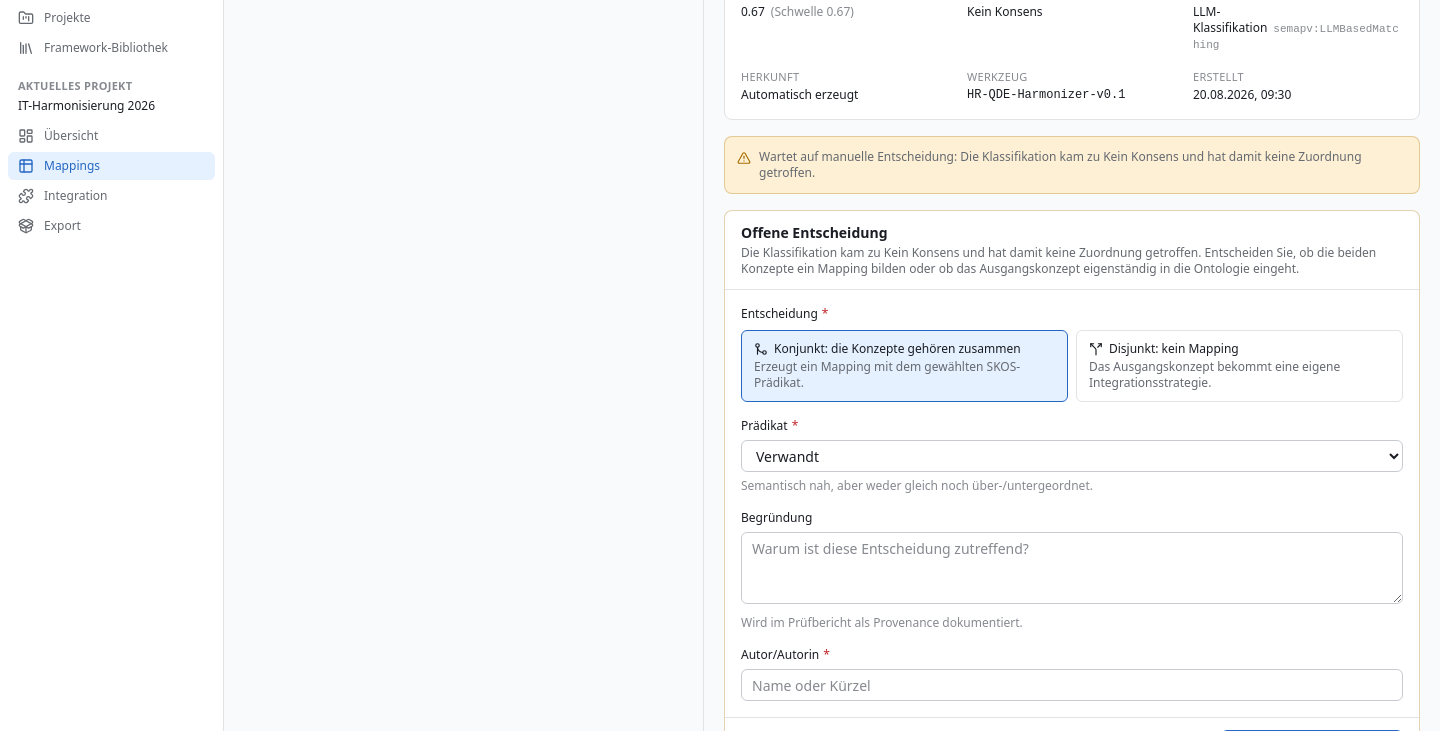
Test: Offene Paare in der Ergebnisliste › verlangt bei map_to_nearest einen Kontextverlust-Vermerk
The image size is (1440, 731).
(page scrolled)
expect the heading "Offene Entscheidung" is shown: met, box [741,223,888,242]
Step 1. Click the button "Disjunkt: kein Mapping" → (1240, 366), box [1076,330,1403,402]
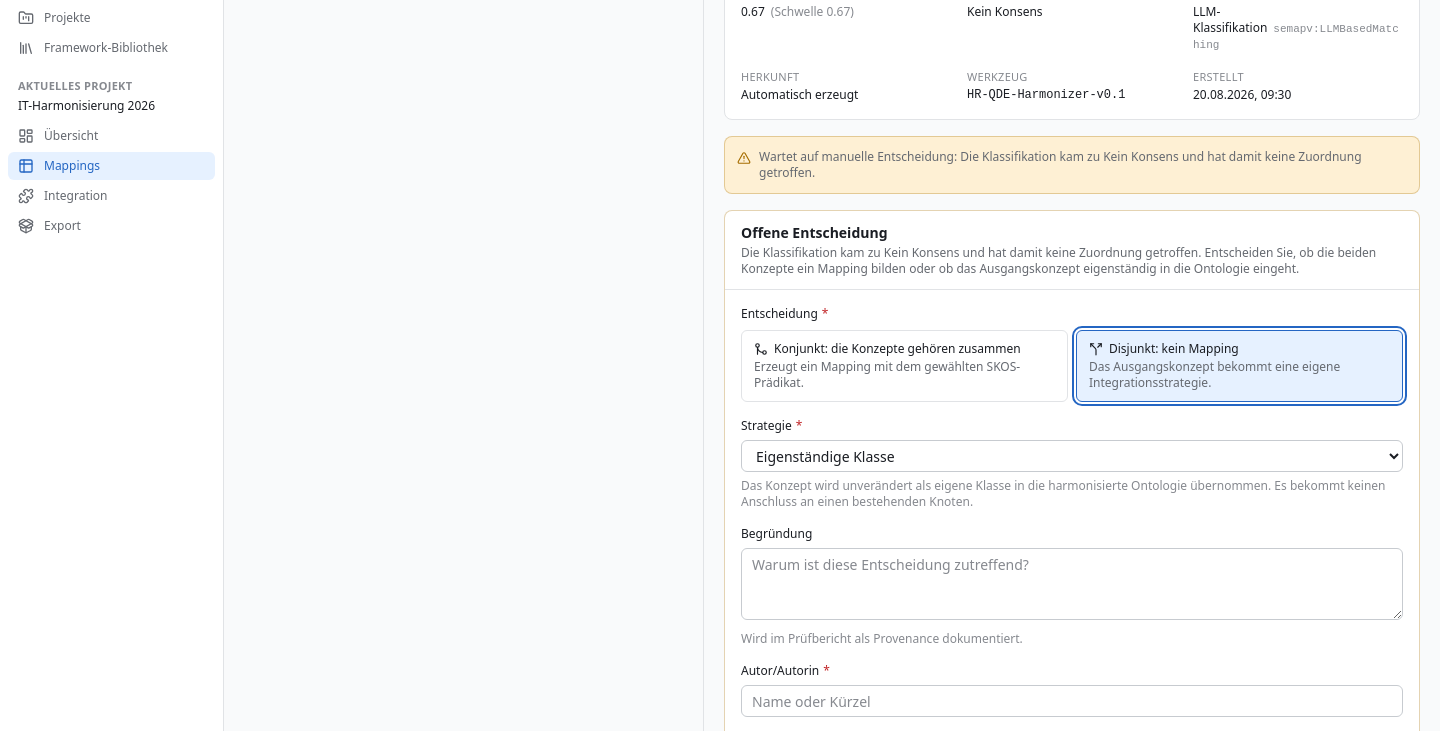
Step 2. Select "An nächstliegendes Konzept anhängen" in the dropdown labelled "Strategie*" → (1072, 456), box [741,440,1403,472]
(page scrolled)
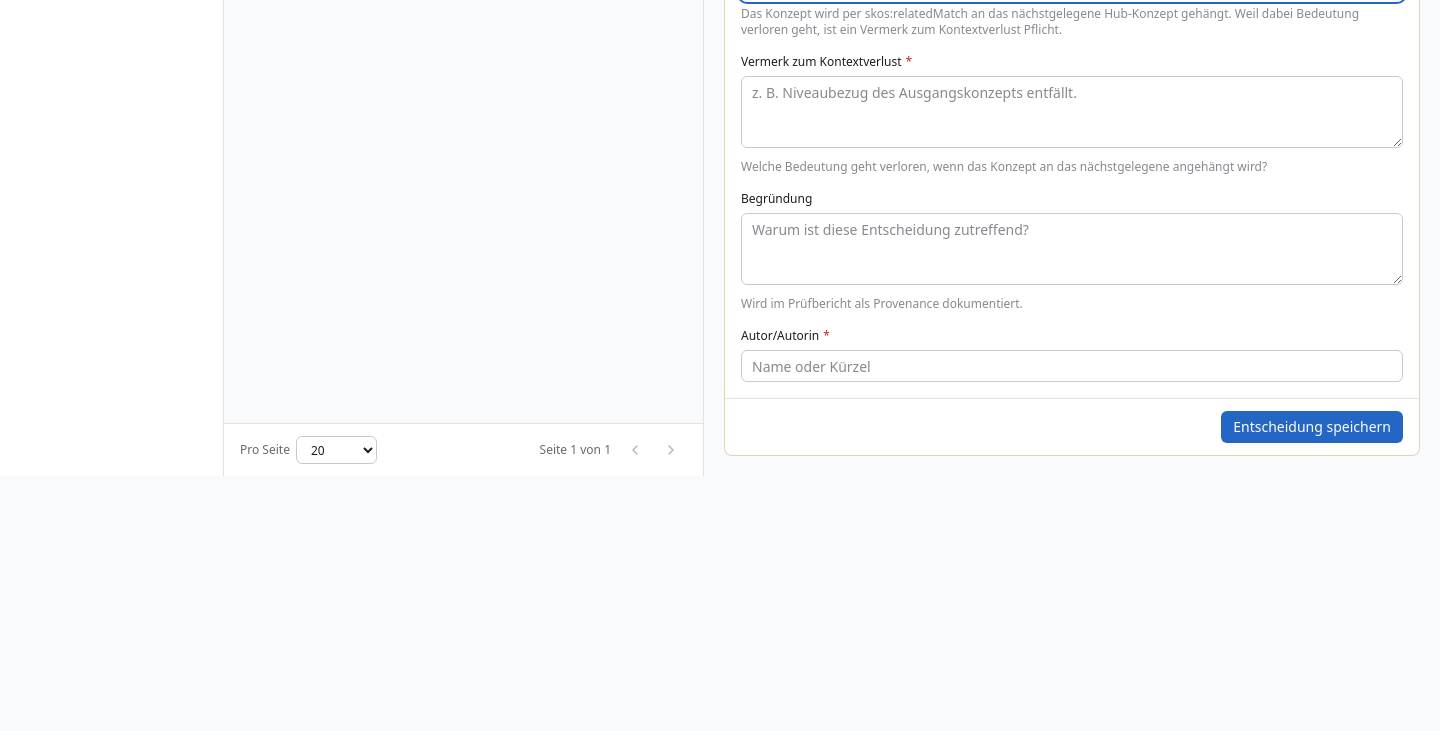
Step 3. Type "AO" into the field labelled "Autor/Autorin*" → (1072, 366), box [741,350,1403,382]
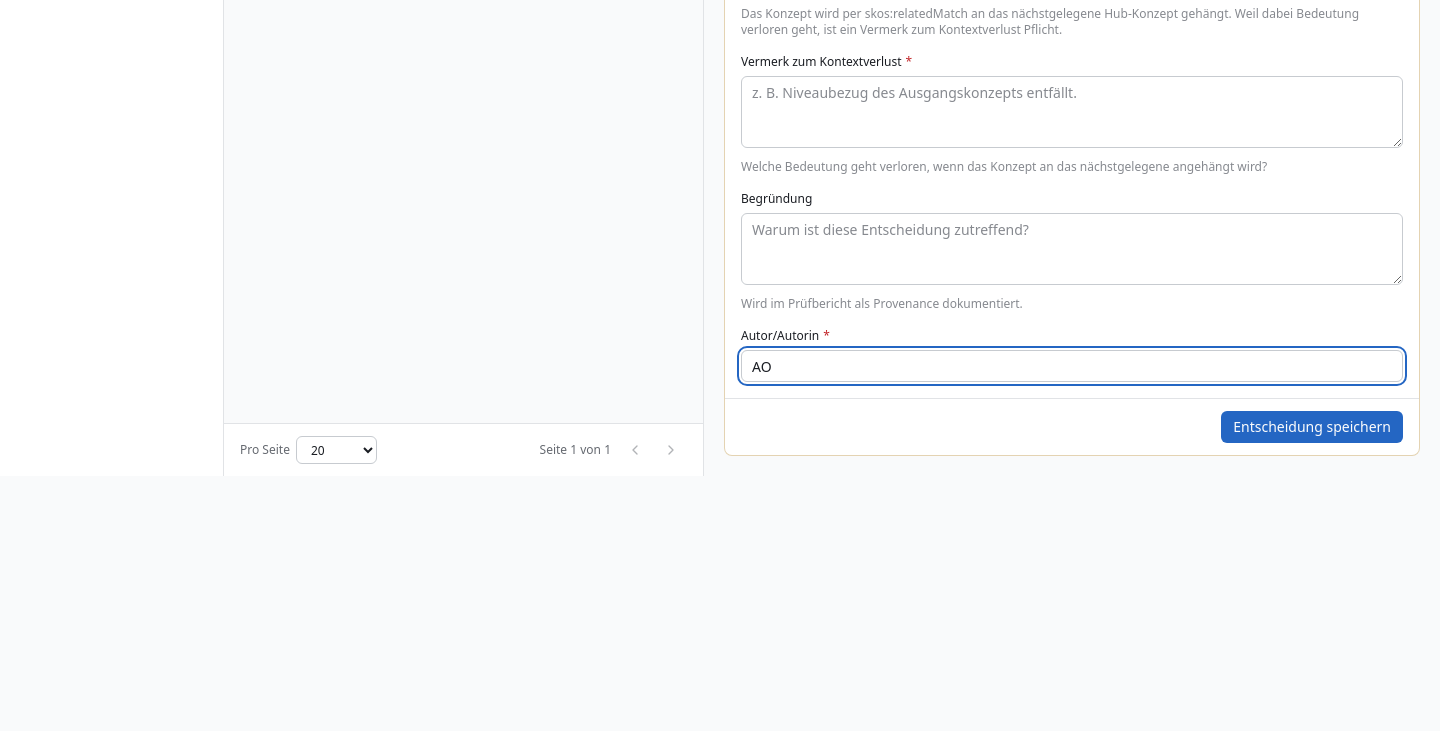
Step 4. Click the button "Entscheidung speichern" → (1312, 427), box [1221,411,1403,443]
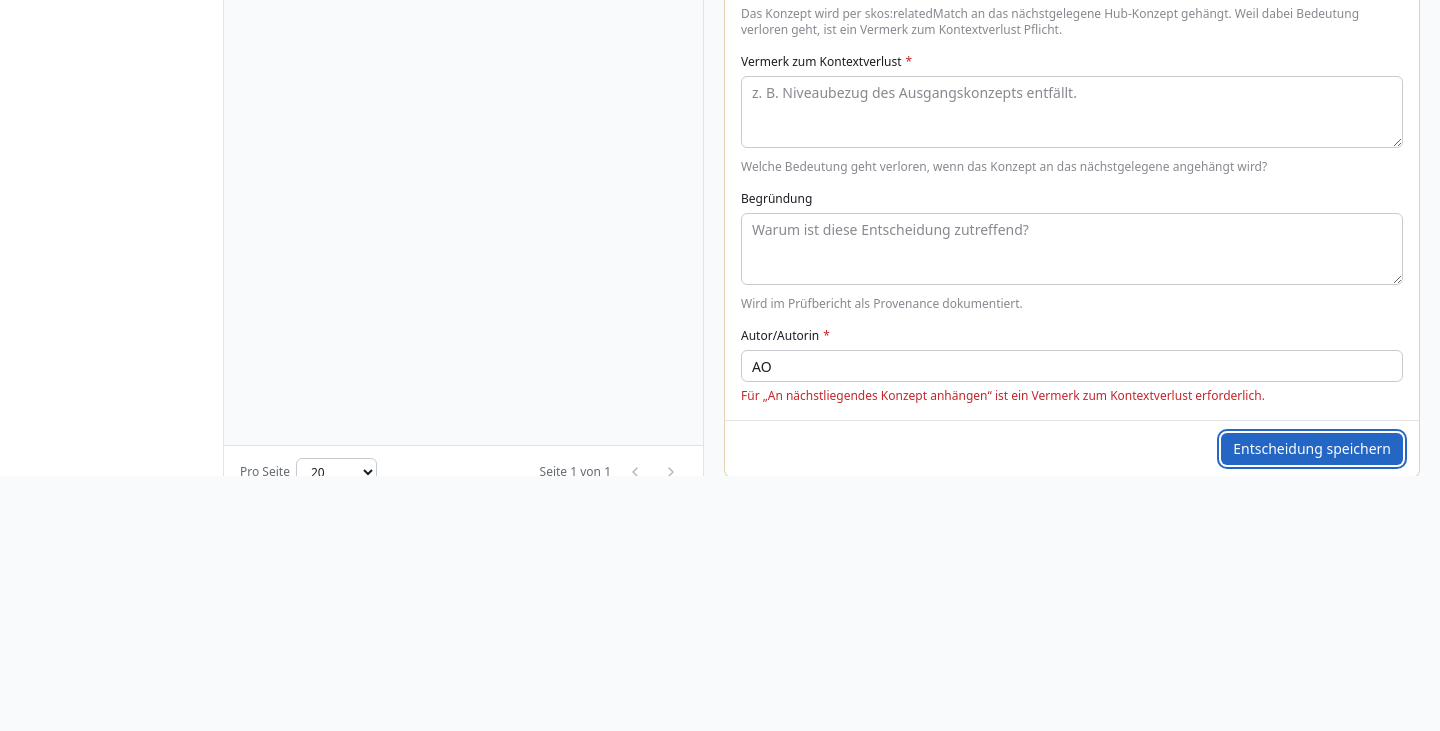
expect the text "ist ein Vermerk zum Kontextverlust erforderlich" is shown: met, box [741,387,1265,404]
